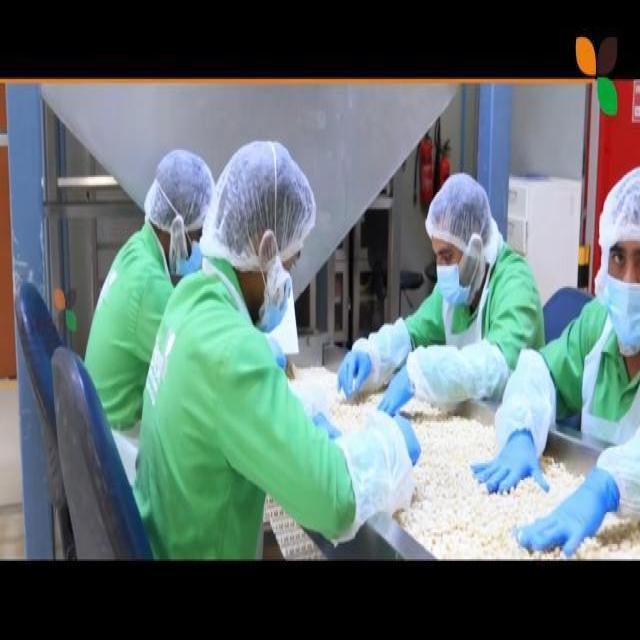gloved_hand: (515, 473, 627, 557), (467, 424, 552, 502), (379, 403, 432, 490), (375, 355, 417, 419), (333, 347, 379, 403)
